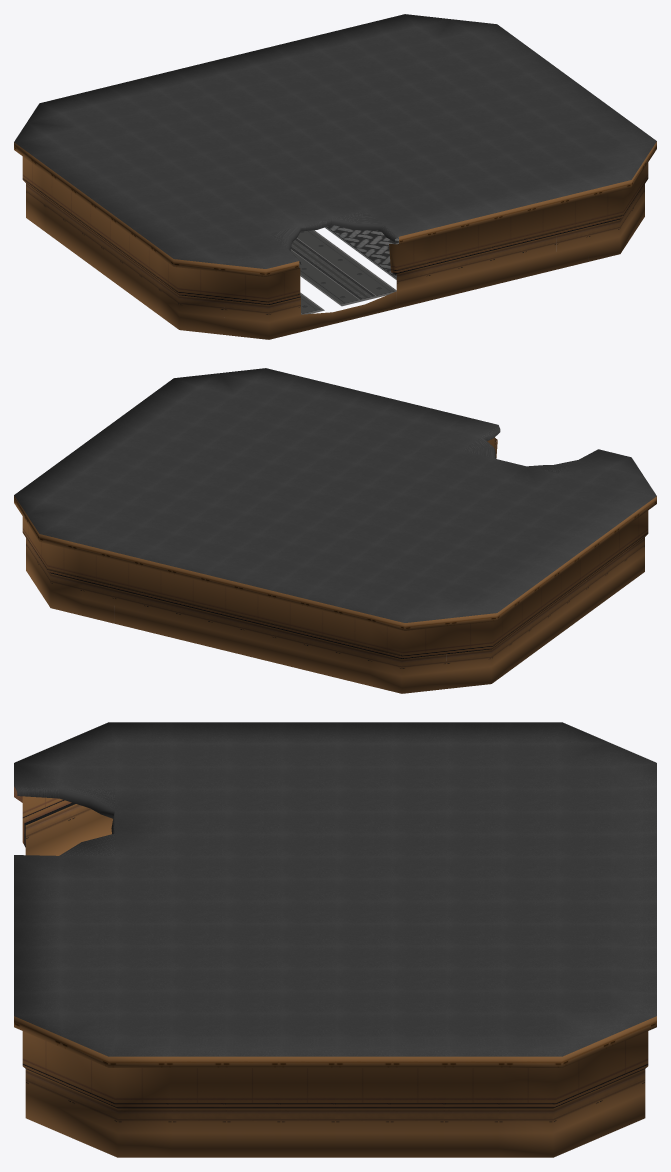
Rendered from PlataformBase.fbx.
The picture shows the model from 3 angles, top to bottom: view 1: azimuth 30°, elevation 25°; view 2: azimuth 150°, elevation 25°; view 3: azimuth 270°, elevation 25°; orthographic projection. The views are drawn at different scales.
Visible parts, largest first — view 1: Cube.002; view 2: Cube.002; view 3: Cube.002.
Part boxes in pixels (x1,y1,x2,y2): Cube.002: (14, 14, 656, 339); Cube.002: (14, 368, 656, 693); Cube.002: (14, 722, 656, 1157).
Bounding box in the file's own units: 6327 × 944 × 5138.
